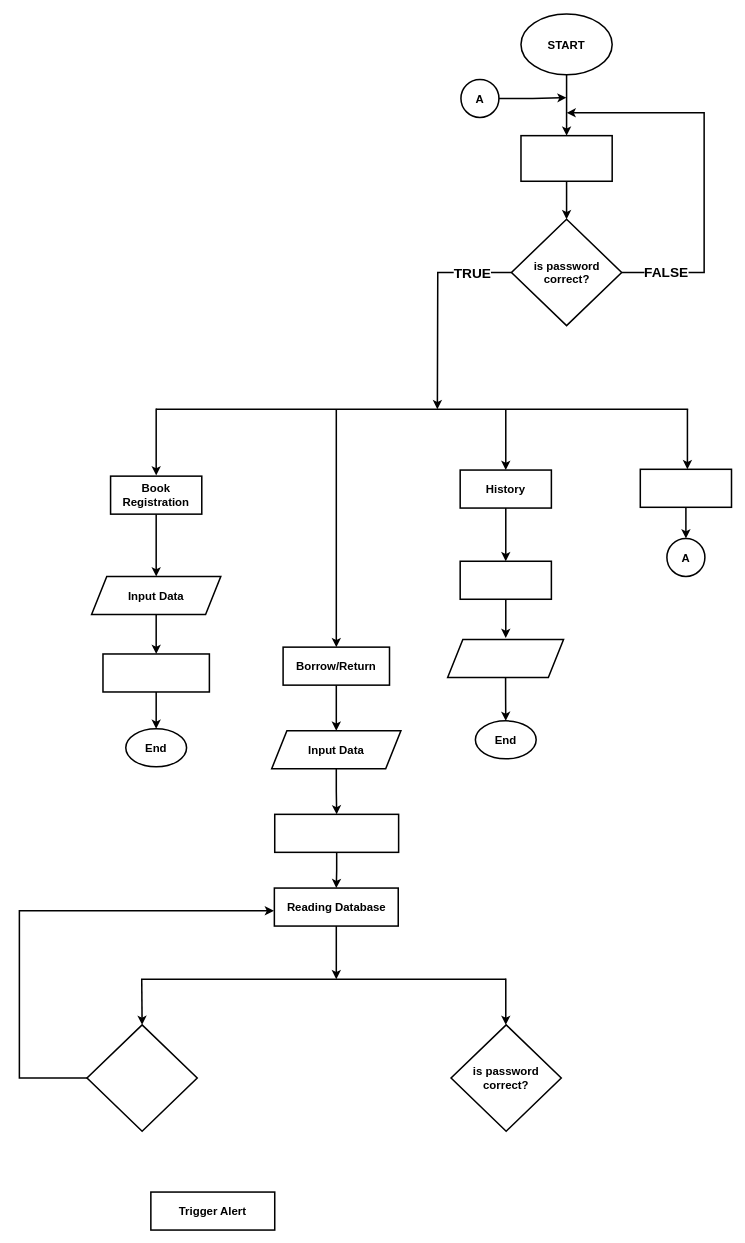
Some shapes in this 745 by 1243 pixel diagram are drawn without their labels. Each missing label, with the box of its shape:
book is available?: (86, 1024, 198, 1132)
Data saved in database: (102, 653, 210, 692)
Exit: (639, 468, 732, 508)
Generate: (459, 560, 552, 600)
Login: (520, 135, 613, 182)
Show Data: (446, 638, 564, 678)
System Initialized: (274, 813, 399, 853)
